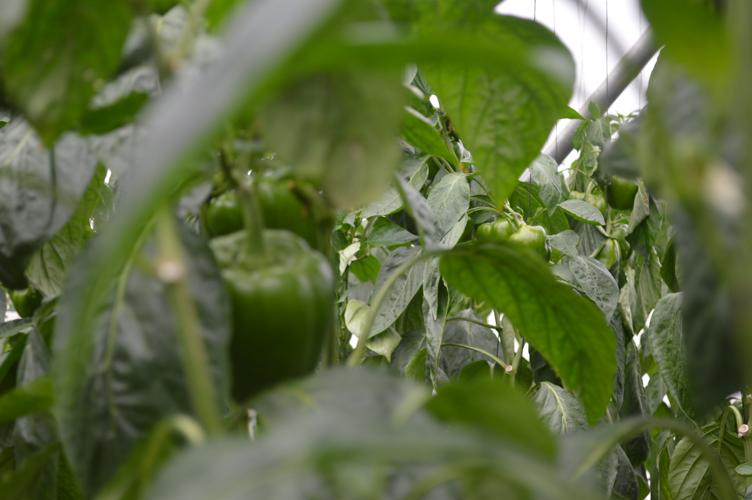BellPepper: (204, 231, 328, 382), (203, 181, 311, 235)
